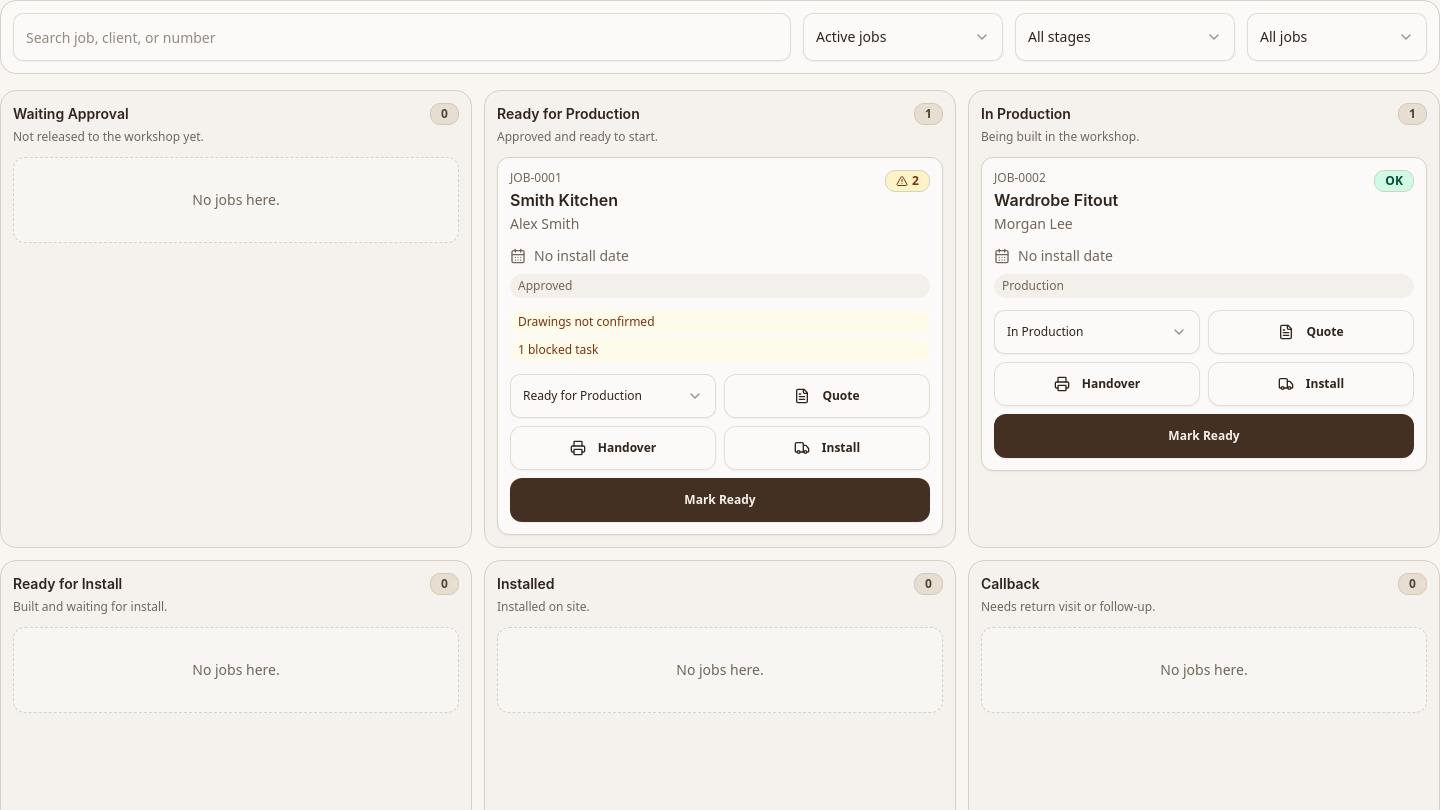
Test case: WorkshopBoard › filters cards by search text
Type "wardrobe" into the field with placeholder "Search job, client, or number".
click(402, 37); type("wardrobe")  # box [13,13,791,61]
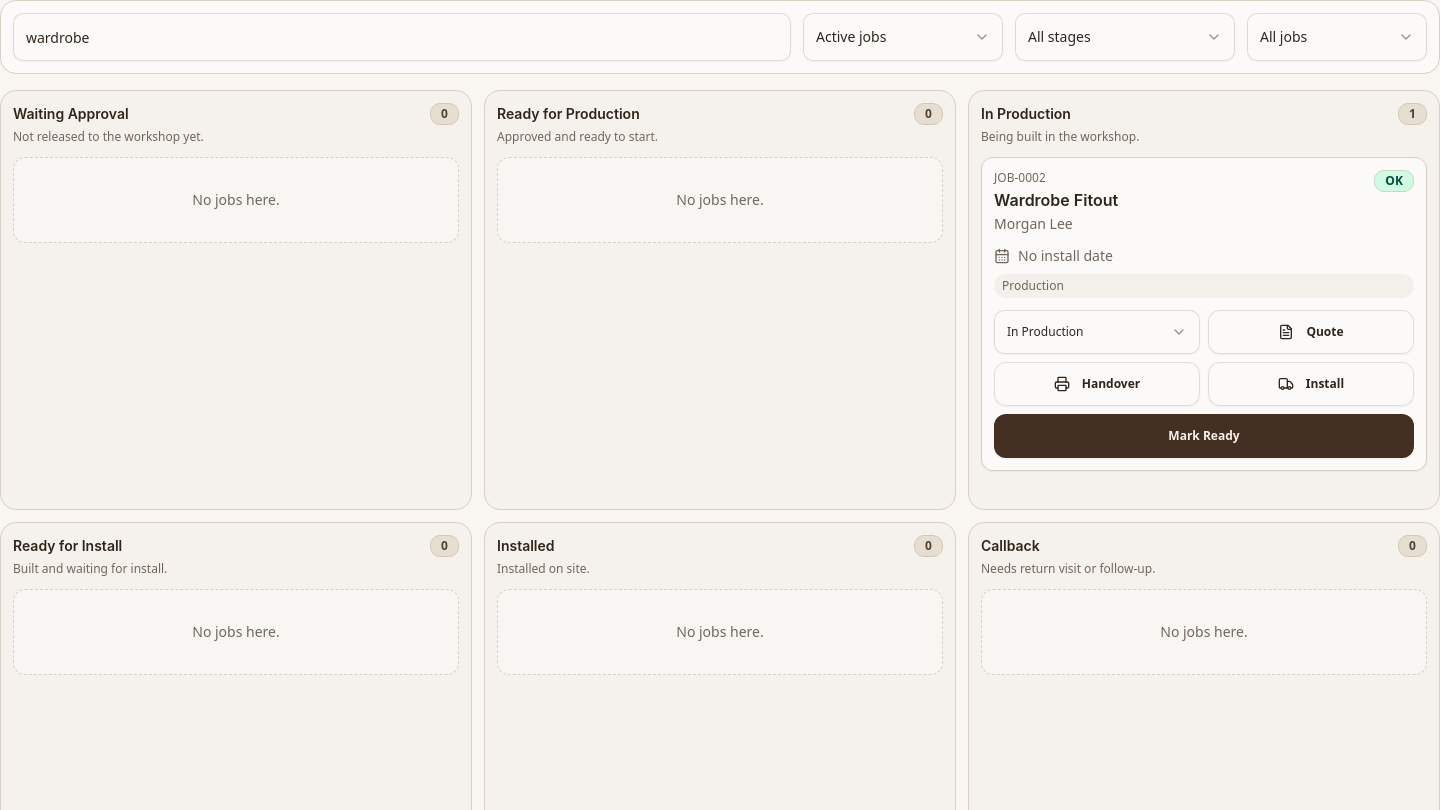
Check: the heading "Wardrobe Fitout" is shown, box [994,190,1118,210]
Check: the heading "Smith Kitchen" is gone
